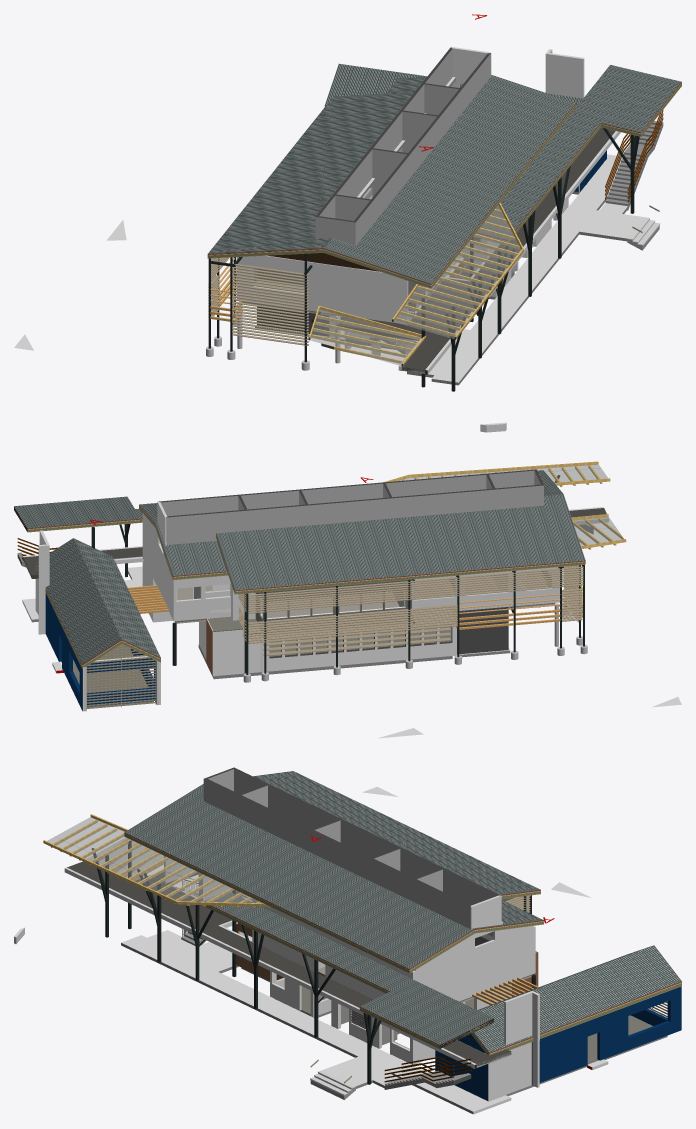
Rendered from CGC_A.obj.
3 renders of one model, top to bottom at view 1: azimuth 30°, elevation 25°; view 2: azimuth 150°, elevation 25°; view 3: azimuth 270°, elevation 25°, orthographic. The views are drawn at different scales.
Visible parts, largest first — view 1: 02-TOITURES METAL-TOLE_ONDULEE_GRIS, 02-GROS_OEUVRE REVET__MURS_EXT___3_ FLAT_PART, 02-GROS_OEUVRE BRIQUE_-_BLANCHE_NATURELLE FLAT_PART, 02-TOITURES TRANSP__-_VERRE_CLAIR__RAPIDE_, 02-DALLES REVET__MURS_EXT___3_, 02-TOITURES BOIS-PIN, 02-CHARPENTE BOIS_-_PIN_GRANULEUX_HORIZONTA, 02-DALLES CARRELAGE_-_BRUN_ROUX_30X30, 02-CHARPENTE METAL-ANTHRACITE, 02-TOITURES ISOLATION_-_FIBRE_DE_VERRE, 02-GROS_OEUVRE BETON_-_BRUT FLAT_PART, 02-GROS_OEUVRE METAL-ALUMINIUM (+8 smaller); view 2: 02-TOITURES METAL-TOLE_ONDULEE_GRIS, 02-CHARPENTE BOIS_-_PIN_GRANULEUX_HORIZONTA, 02-GROS_OEUVRE BRIQUE_-_BLANCHE_NATURELLE FLAT_PART, 02-GROS_OEUVRE REVET__MURS_EXT___3_ FLAT_PART, 02-GROS_OEUVRE METAL-TOLE_ONDULEE_BLANC, 02-GROS_OEUVRE PEINTURE_-_BLEU_COBALT, 03-METALLERIE BOIS_-_PIN_GRANULEUX_HORIZONTA, 02-CHARPENTE BOIS-CHENE, 02-DALLES BETON_-_BRUT_DE_DECOFFRAGE__PL, 02-DALLES CARRELAGE_-_BRUN_ROUX_25X25, 02-CHARPENTE METAL-ANTHRACITE, 02-GROS_OEUVRE METAL-ALUMINIUM (+16 smaller); view 3: 02-TOITURES METAL-TOLE_ONDULEE_GRIS, 02-GROS_OEUVRE REVET__MURS_EXT___3_ FLAT_PART, 02-GROS_OEUVRE BRIQUE_-_BLANCHE_NATURELLE FLAT_PART, 02-DALLES REVET__MURS_EXT___3_, 02-GROS_OEUVRE PEINTURE_-_BLEU_COBALT, 02-TOITURES TRANSP__-_VERRE_CLAIR__RAPIDE_, 02-DALLES CARRELAGE_-_BRUN_ROUX_30X30, 02-TOITURES BOIS-PIN, 02-CHARPENTE METAL-ANTHRACITE, 02-TOITURES ISOLATION_-_FIBRE_DE_VERRE, 02-DALLES BETON_-_BRUT, 02-GROS_OEUVRE METAL-ALUMINIUM (+10 smaller).
Part boxes in pixels (bbox=[...]): 02-TOITURES METAL-TOLE_ONDULEE_GRIS: bbox=[208, 63, 681, 284]; 02-GROS_OEUVRE REVET__MURS_EXT___3_ FLAT_PART: bbox=[236, 47, 620, 432]; 02-GROS_OEUVRE BRIQUE_-_BLANCHE_NATURELLE FLAT_PART: bbox=[315, 48, 490, 245]; 02-TOITURES TRANSP__-_VERRE_CLAIR__RAPIDE_: bbox=[310, 205, 521, 365]; 02-DALLES REVET__MURS_EXT___3_: bbox=[259, 77, 643, 382]; 02-TOITURES BOIS-PIN: bbox=[309, 202, 523, 365]; 02-CHARPENTE BOIS_-_PIN_GRANULEUX_HORIZONTA: bbox=[208, 257, 309, 345]; 02-DALLES CARRELAGE_-_BRUN_ROUX_30X30: bbox=[337, 127, 615, 369]; 02-CHARPENTE METAL-ANTHRACITE: bbox=[208, 128, 639, 391]; 02-TOITURES ISOLATION_-_FIBRE_DE_VERRE: bbox=[207, 84, 681, 288]; 02-GROS_OEUVRE BETON_-_BRUT FLAT_PART: bbox=[605, 121, 663, 210]; 02-GROS_OEUVRE METAL-ALUMINIUM: bbox=[315, 47, 490, 222]; 02-TOITURES METAL-TOLE_ONDULEE_GRIS: bbox=[14, 470, 585, 664]; 02-CHARPENTE BOIS_-_PIN_GRANULEUX_HORIZONTA: bbox=[238, 565, 583, 656]; 02-GROS_OEUVRE BRIQUE_-_BLANCHE_NATURELLE FLAT_PART: bbox=[160, 470, 543, 544]; 02-GROS_OEUVRE REVET__MURS_EXT___3_ FLAT_PART: bbox=[23, 501, 608, 672]; 02-GROS_OEUVRE METAL-TOLE_ONDULEE_BLANC: bbox=[212, 612, 456, 676]; 02-GROS_OEUVRE PEINTURE_-_BLEU_COBALT: bbox=[45, 593, 156, 710]; 03-METALLERIE BOIS_-_PIN_GRANULEUX_HORIZONTA: bbox=[86, 644, 156, 709]; 02-CHARPENTE BOIS-CHENE: bbox=[128, 585, 582, 629]; 02-DALLES BETON_-_BRUT_DE_DECOFFRAGE__PL: bbox=[23, 558, 555, 693]; 02-DALLES CARRELAGE_-_BRUN_ROUX_25X25: bbox=[177, 571, 547, 618]; 02-CHARPENTE METAL-ANTHRACITE: bbox=[91, 475, 584, 674]; 02-GROS_OEUVRE METAL-ALUMINIUM: bbox=[159, 469, 543, 658]; 02-TOITURES METAL-TOLE_ONDULEE_GRIS: bbox=[124, 771, 681, 1052]; 02-GROS_OEUVRE REVET__MURS_EXT___3_ FLAT_PART: bbox=[14, 856, 539, 1101]; 02-GROS_OEUVRE BRIQUE_-_BLANCHE_NATURELLE FLAT_PART: bbox=[203, 769, 497, 936]; 02-DALLES REVET__MURS_EXT___3_: bbox=[121, 930, 608, 1114]; 02-GROS_OEUVRE PEINTURE_-_BLEU_COBALT: bbox=[435, 986, 681, 1100]; 02-TOITURES TRANSP__-_VERRE_CLAIR__RAPIDE_: bbox=[47, 817, 262, 903]; 02-DALLES CARRELAGE_-_BRUN_ROUX_30X30: bbox=[67, 861, 510, 1063]; 02-TOITURES BOIS-PIN: bbox=[43, 814, 270, 908]; 02-CHARPENTE METAL-ANTHRACITE: bbox=[92, 840, 531, 1084]; 02-TOITURES ISOLATION_-_FIBRE_DE_VERRE: bbox=[124, 834, 681, 1055]; 02-DALLES BETON_-_BRUT: bbox=[121, 943, 667, 1113]; 02-GROS_OEUVRE METAL-ALUMINIUM: bbox=[204, 767, 537, 952].
Size of the model in its own units: 51.34 by 10.7 by 44.45.
